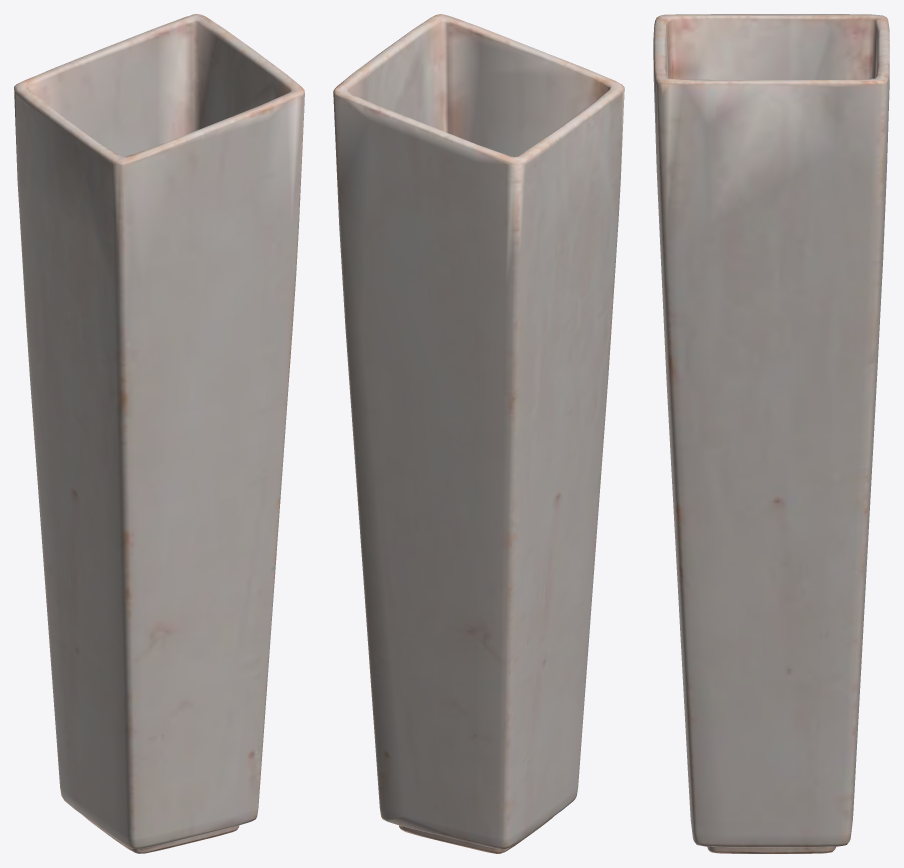
The model's file is vase_b.glb.
3 views of the same model, side by side, from view 1: azimuth 30°, elevation 25°; view 2: azimuth 150°, elevation 25°; view 3: azimuth 270°, elevation 25° (orthographic). The views are drawn at different scales.
Parts seen in each view (by area): view 1: ceramic_vase_03; view 2: ceramic_vase_03; view 3: ceramic_vase_03.
Part boxes in pixels (left/top/right/bottom): ceramic_vase_03: left=14, top=14, right=304, bottom=853; ceramic_vase_03: left=333, top=14, right=624, bottom=853; ceramic_vase_03: left=653, top=14, right=889, bottom=853.
Size of the model in its own units: 0.112 by 0.4143 by 0.1118.
Materials: 1 (1 with a texture image).
